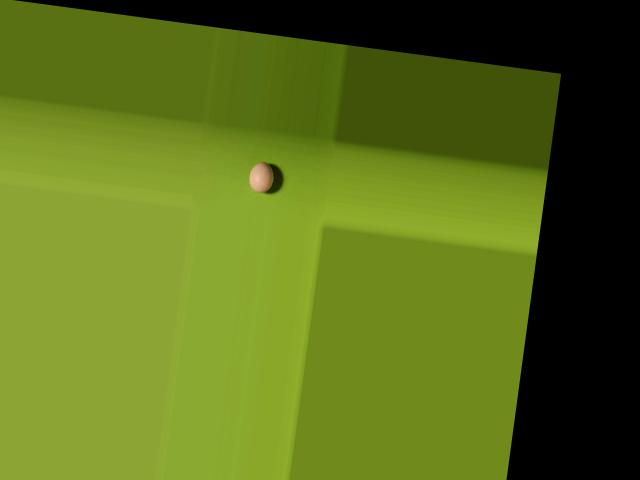egg: (248, 159, 276, 194)
